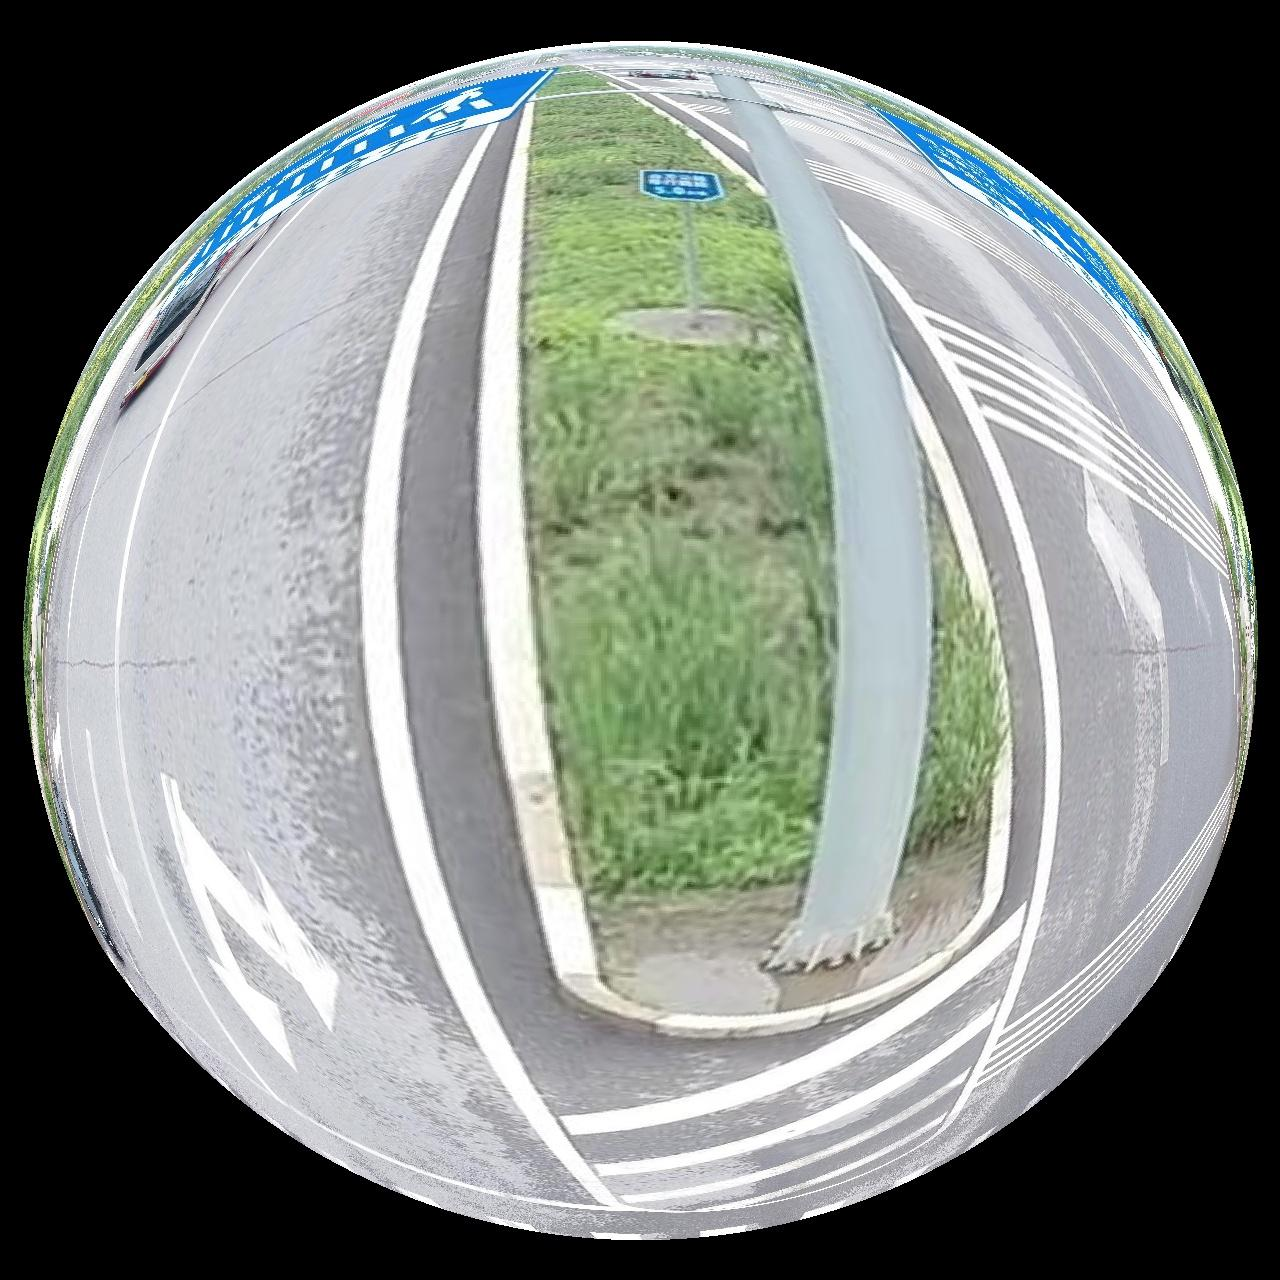cars: (120, 220, 272, 408)
